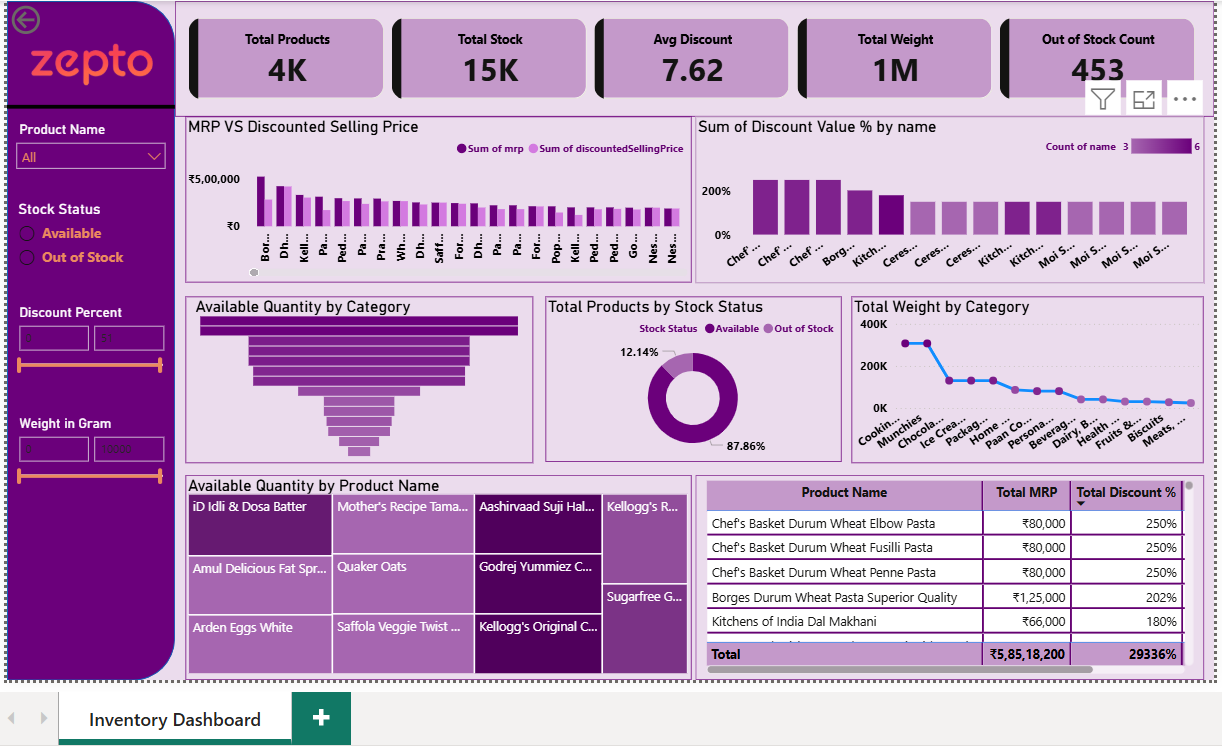

The dashboard page shown, as its layout file describes it:
{"tool":"powerbi","page":{"name":"Page 1","canvas":[1280,720],"ordinal":0},"visuals":[{"type":"shape","box":[0,0,178.1,720.5],"z":0},{"type":"cardVisual","fields":{"Data":["zepto_v1.Total Products","zepto_v1.Total Stock","zepto_v1.Avg Discount","zepto_v1.Total Weight","zepto_v1.Out of Stock Count"]},"box":[178.1,0,1102.3,122.5],"z":1000},{"type":"actionButton","box":[0,0,100,40],"z":2000},{"type":"clusteredColumnChart","title":"MRP VS Discounted Selling Price ","fields":{"Category":["zepto_v1.name"],"Y":["Sum(zepto_v1.mrp)","Sum(zepto_v1.discountedSellingPrice)"]},"box":[189,122.8,536.7,175.7],"z":3000},{"type":"columnChart","fields":{"Category":["zepto_v1.name"],"Y":["Sum(zepto_v1.Discount Value %)"]},"box":[730.1,122.5,539.2,176.6],"z":4000},{"type":"treemap","title":"Available Quantity by Product Name","fields":{"Group":["zepto_v1.name"],"Values":["Sum(zepto_v1.availableQuantity)"]},"box":[189,502.7,536.7,217.3],"z":5000},{"type":"tableEx","fields":{"Values":["zepto_v1.name","Sum(zepto_v1.mrp)","Sum(zepto_v1.Discount Value %)","Sum(zepto_v1.Discount Amount)"]},"box":[729.9,503.3,539.2,217.3],"z":6000},{"type":"donutChart","fields":{"Y":["zepto_v1.Total Products"],"Category":["zepto_v1.Stock Status"]},"box":[570.5,312.6,314.2,175.1],"z":7000},{"type":"lineChart","fields":{"Category":["zepto_v1.Category"],"Y":["zepto_v1.Total Weight"]},"box":[895.6,312.6,373.6,176.6],"z":8000},{"type":"funnel","title":"Available Quantity by Category","fields":{"Y":["Sum(zepto_v1.availableQuantity)"],"Category":["zepto_v1.Category"]},"box":[189.1,312.6,368.9,176.6],"z":9000},{"type":"image","box":[0,0,178.1,135.2],"z":9002},{"type":"shape","box":[0,100.2,178.1,23.9],"z":9003},{"type":"slicer","fields":{"Values":["zepto_v1.name"]},"box":[0,122.5,178.1,74.8],"z":9004},{"type":"listSlicer","fields":{"Values":["zepto_v1.Stock Status"]},"box":[0,213.1,178.1,230.6],"z":9005},{"type":"slicer","fields":{"Values":["zepto_v1.discountPercent"]},"box":[0,316.5,178.1,87.5],"z":9006},{"type":"slicer","title":"Wight","fields":{"Values":["zepto_v1.weightInGms"]},"box":[0,434.2,178.1,87.5],"z":9007}]}

Visuals, with their boxes in screenshot pixels (x1, y1, x2, y2):
shape: bbox=[3, 0, 171, 678]
cardVisual - zepto_v1.Total Products x zepto_v1.Total Stock: bbox=[171, 0, 1209, 115]
actionButton: bbox=[3, 0, 97, 38]
"MRP VS Discounted Selling Price " clusteredColumnChart: bbox=[181, 116, 686, 281]
columnChart - zepto_v1.name x Sum(zepto_v1.Discount Value %): bbox=[691, 115, 1198, 282]
"Available Quantity by Product Name" treemap: bbox=[181, 473, 686, 678]
tableEx - zepto_v1.name x Sum(zepto_v1.mrp): bbox=[690, 474, 1198, 678]
donutChart - zepto_v1.Total Products x zepto_v1.Stock Status: bbox=[540, 294, 836, 459]
lineChart - zepto_v1.Category x zepto_v1.Total Weight: bbox=[846, 294, 1198, 461]
"Available Quantity by Category" funnel: bbox=[181, 294, 529, 461]
image: bbox=[3, 0, 171, 127]
shape: bbox=[3, 94, 171, 117]
slicer - zepto_v1.name: bbox=[3, 115, 171, 186]
listSlicer - zepto_v1.Stock Status: bbox=[3, 201, 171, 418]
slicer - zepto_v1.discountPercent: bbox=[3, 298, 171, 380]
"Wight" slicer: bbox=[3, 409, 171, 491]
